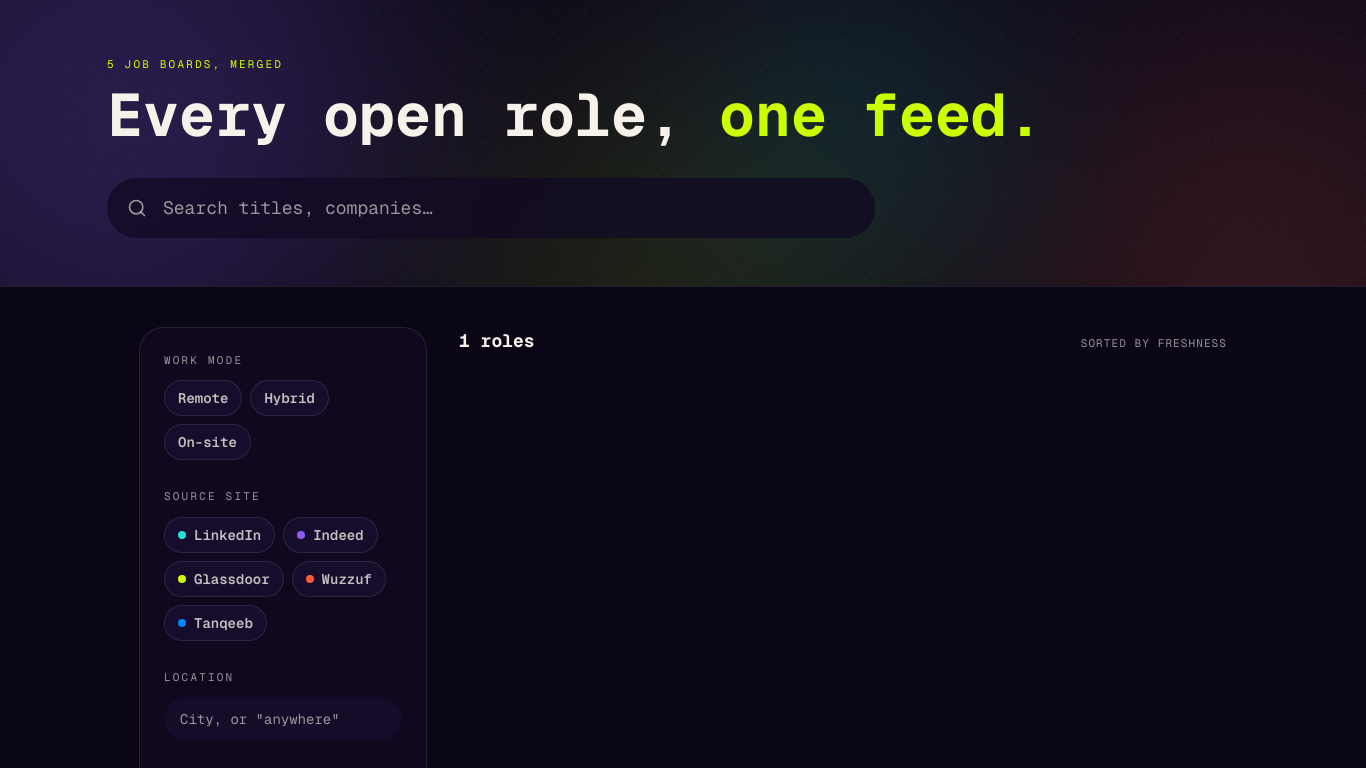
JobsClient › shows empty state on no results and reset clears filters + refetches all jobs
The image size is (1366, 768).
Type "no such role exists" into the field with placeholder "Search titles, companies…" at (491, 208), box [107,178,875,238]
Wait 300 ms
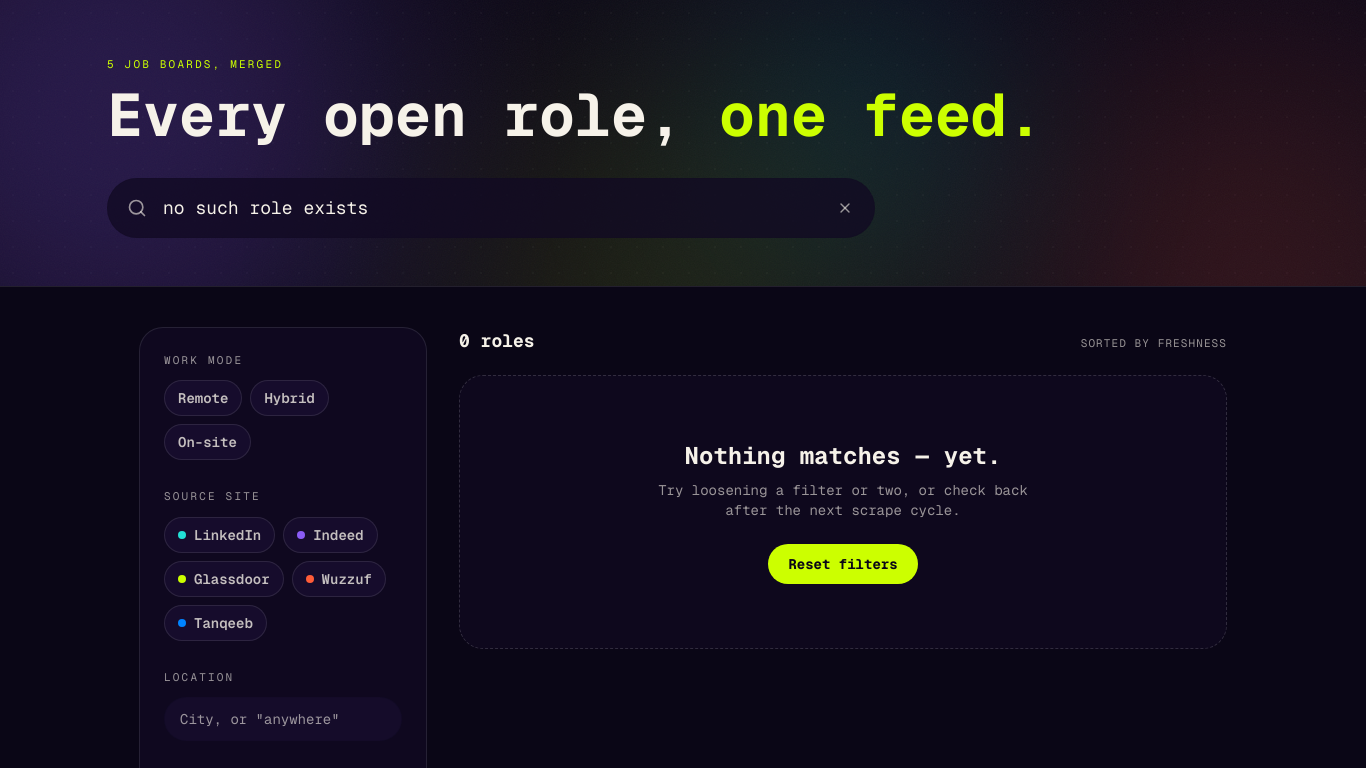
Expected: the text "Nothing matches — yet." is shown, [685,440,1001,471]
Click the button "Reset filters" at (843, 564), box [768,544,918,584]
Wait 350 ms
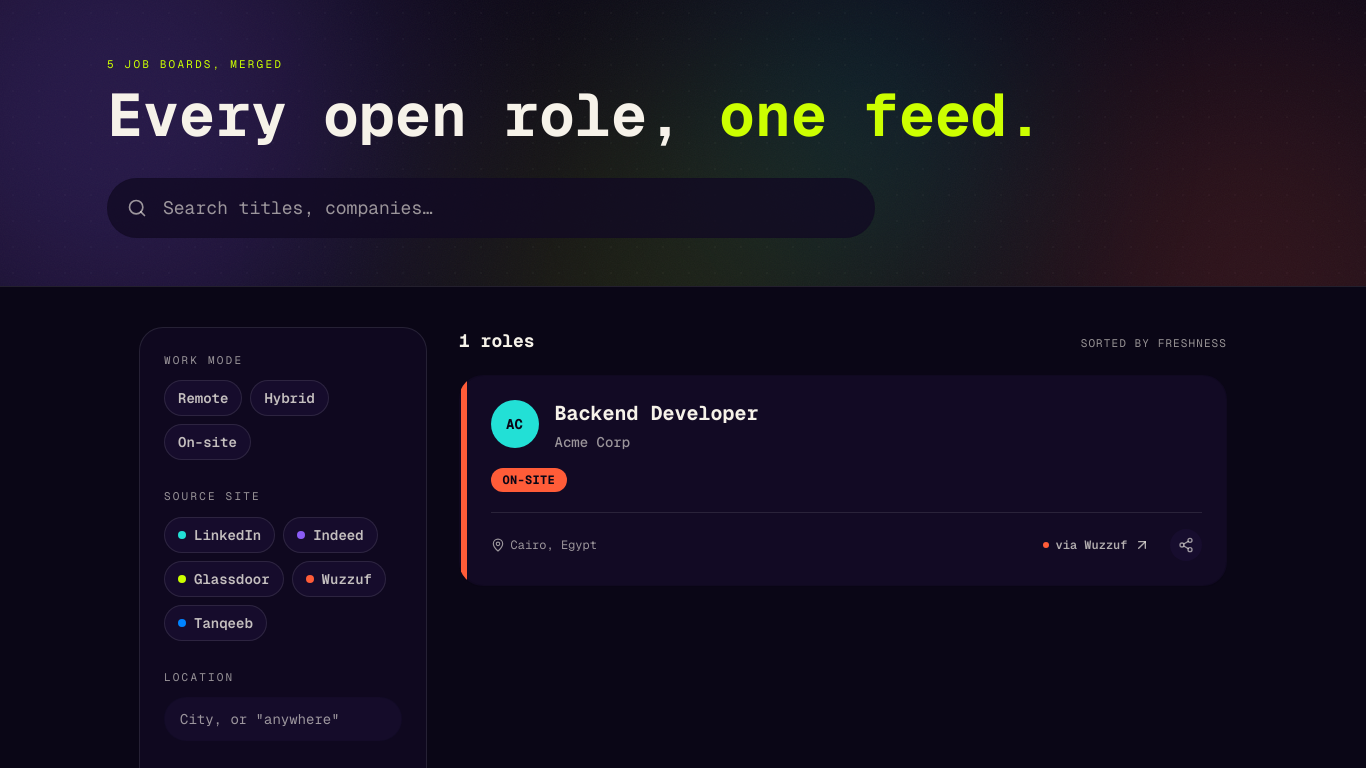
Expected: the link "Backend Developer" is shown, [554,400,758,426]
